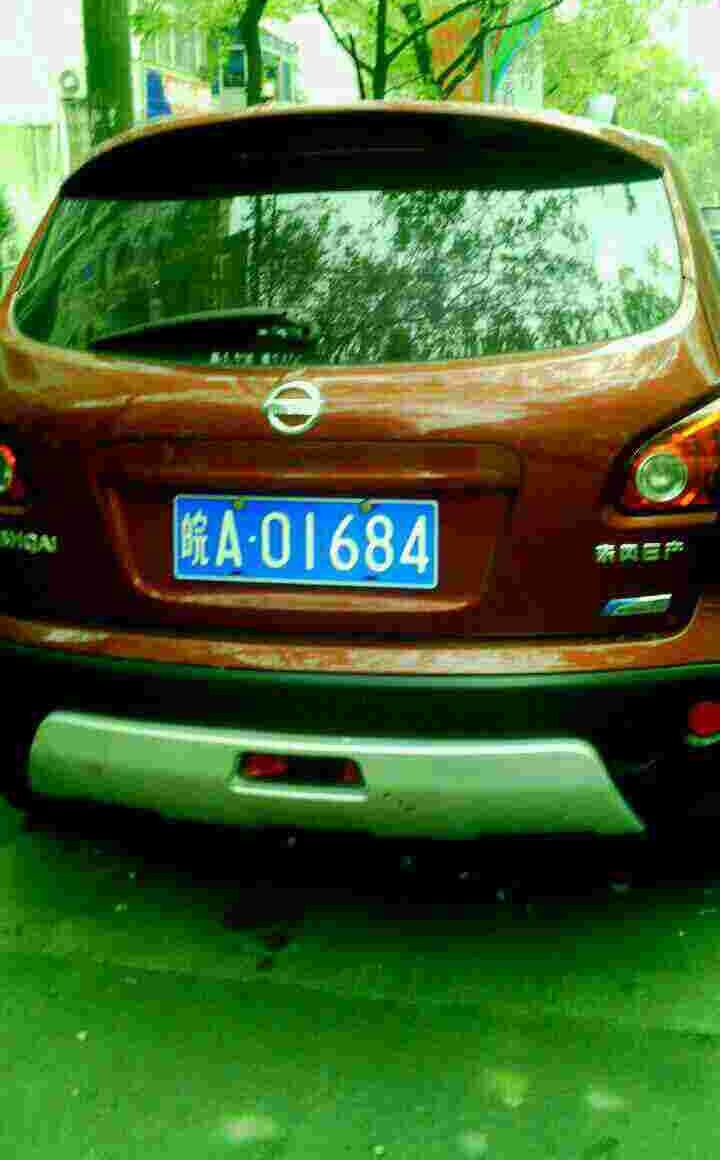license_plate: (177, 504, 435, 584)
